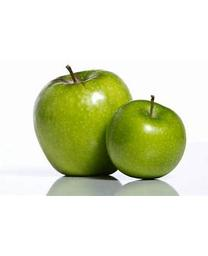apple: (32, 65, 131, 177), (105, 95, 186, 178)
